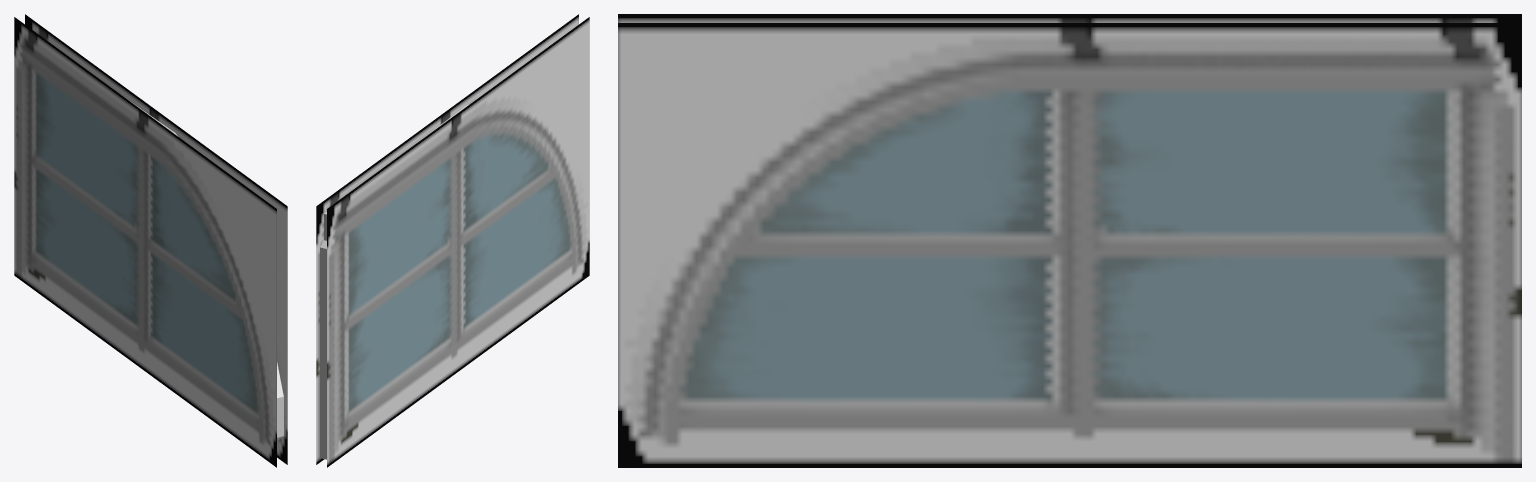
File: pz_native_fixtures_windows_white_0_frame.obj
3 views of the same model, side by side, from view 1: azimuth 30°, elevation 25°; view 2: azimuth 150°, elevation 25°; view 3: azimuth 270°, elevation 25° (orthographic). The views are drawn at different scales.
Visible parts, largest first — view 1: pz_native_fixtures_windows_white_0_frame; view 2: pz_native_fixtures_windows_white_0_frame; view 3: pz_native_fixtures_windows_white_0_frame.
Boxes of the visible parts, x1,y1,x2,y2 form: pz_native_fixtures_windows_white_0_frame: (14, 14, 287, 467); pz_native_fixtures_windows_white_0_frame: (316, 14, 589, 467); pz_native_fixtures_windows_white_0_frame: (618, 14, 1521, 467).
Bounding box in the file's own units: 0.04 × 0.9219 × 1.7.
1 material, 1 textured.
